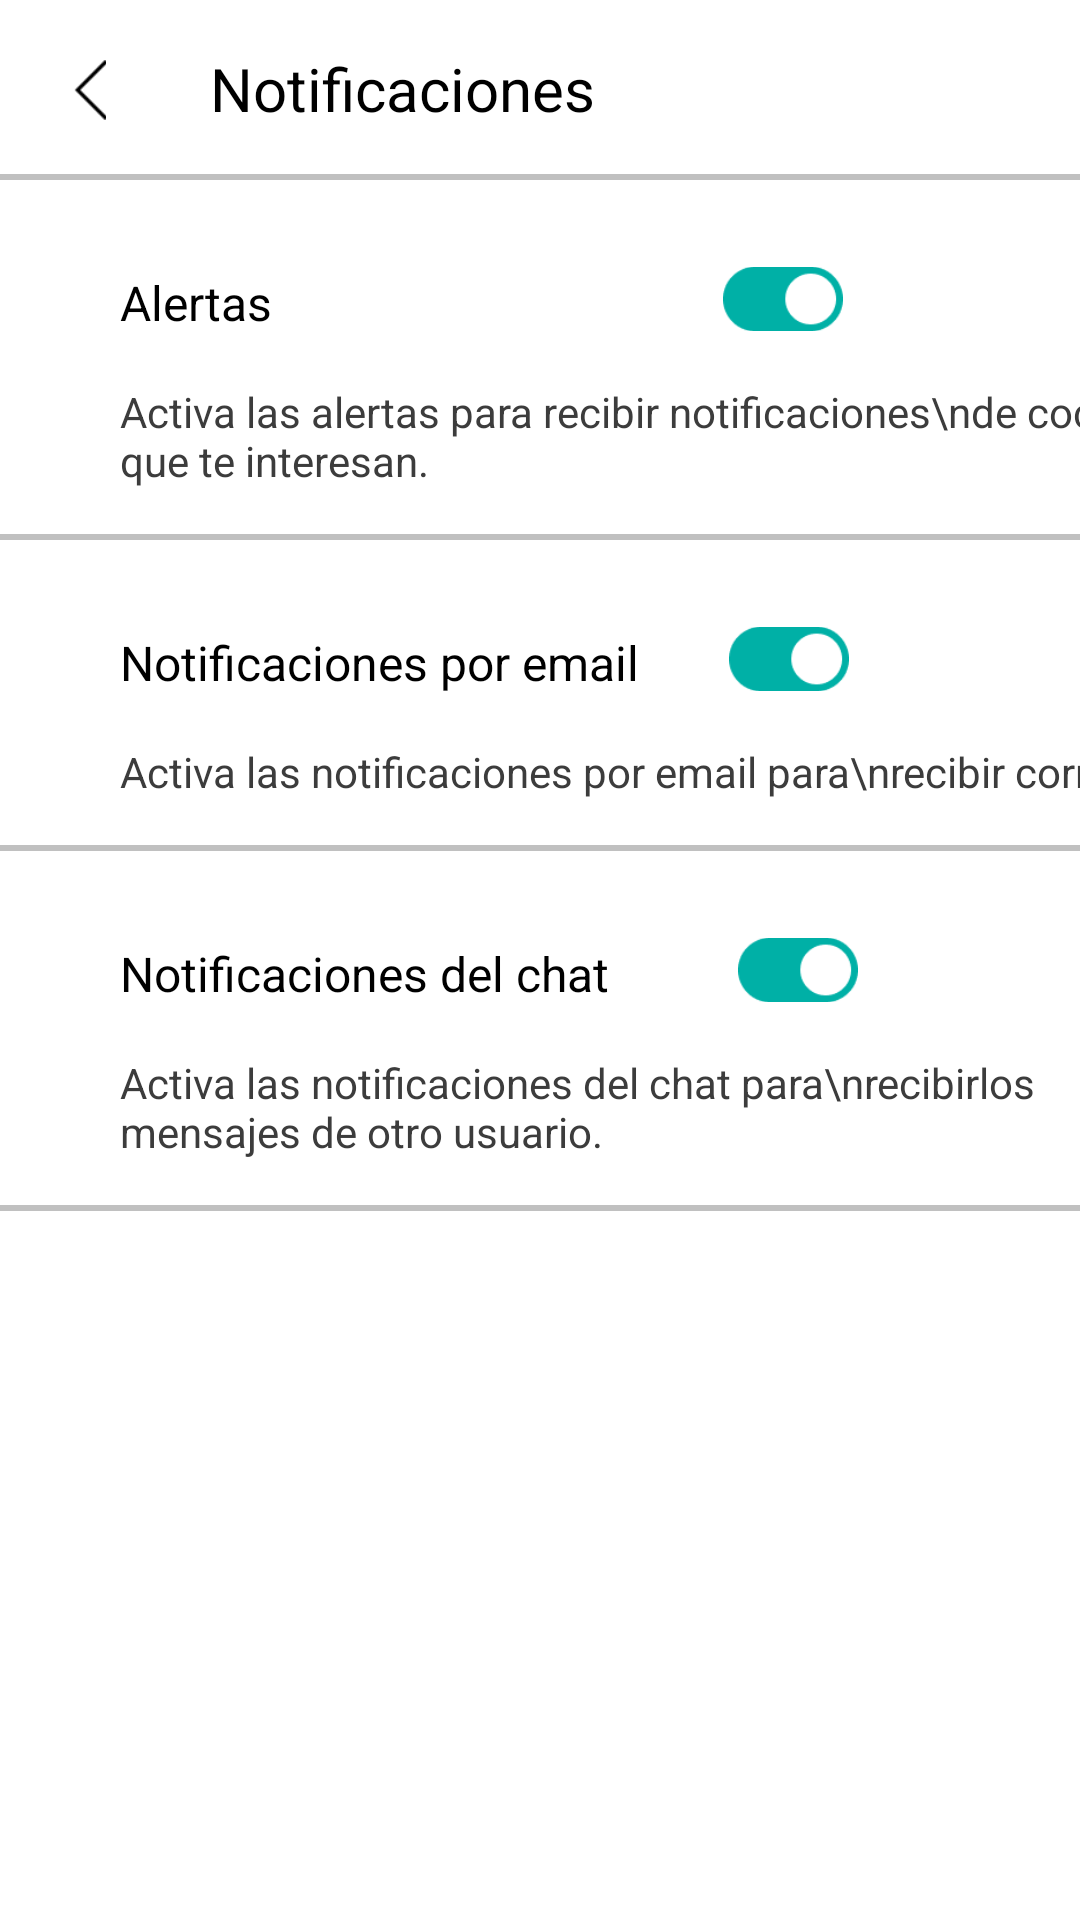

Screen size 1080 x 1920. Icon name, then its center in pixels as (x,y):
switchbutton: (783,299), (789,659), (798,970)
